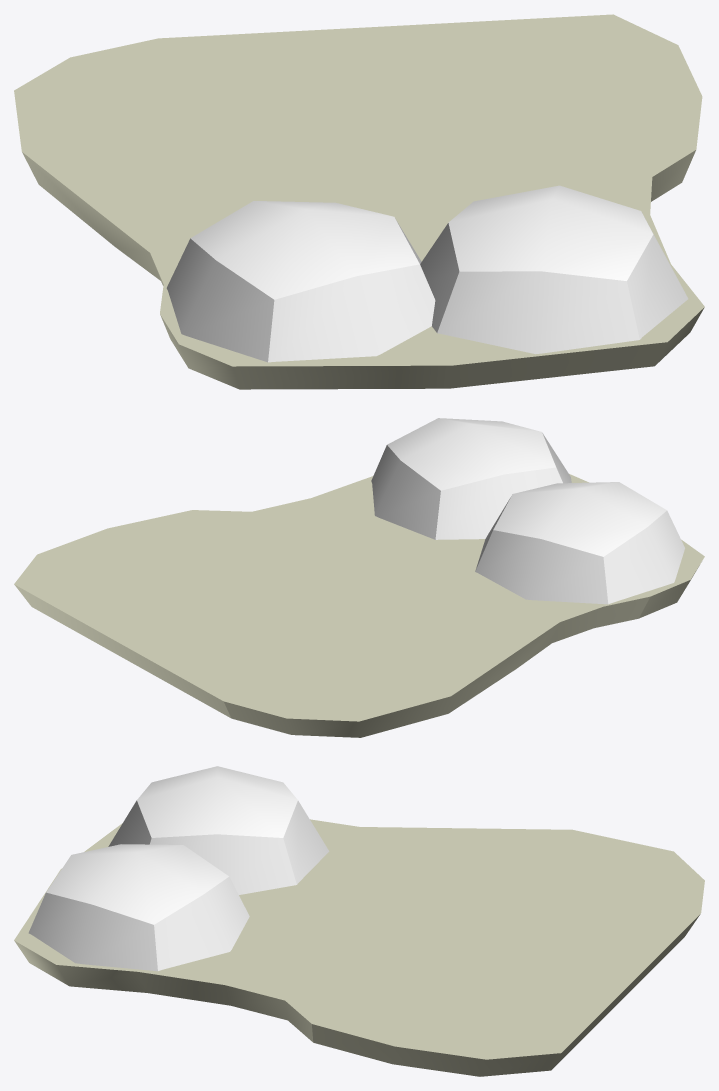
The model's file is mousepad.fbx.
The picture shows the model from 3 angles, top to bottom: view 1: azimuth 30°, elevation 25°; view 2: azimuth 150°, elevation 25°; view 3: azimuth 270°, elevation 25°; orthographic projection. The views are drawn at different scales.
Parts seen in each view (by area): view 1: Line004; view 2: Line004; view 3: Line004.
Part boxes in pixels (box(x1,y1,x2,y2)): Line004: box(14, 14, 704, 389); Line004: box(14, 418, 704, 737); Line004: box(14, 766, 704, 1076).
Size of the model in its own units: 76.93 by 13.46 by 86.29.
